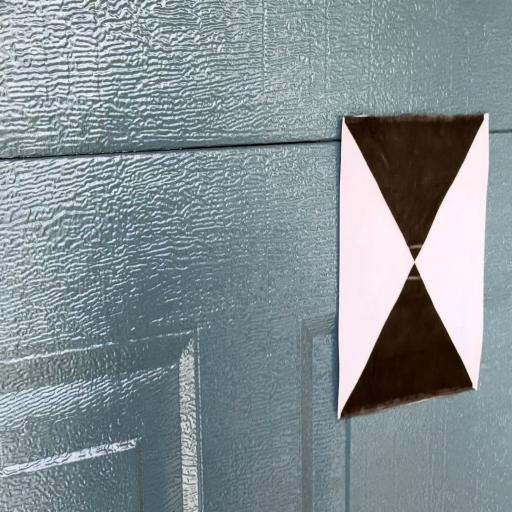target: (339, 112, 490, 420)
